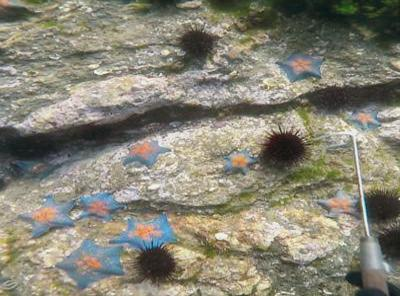urchin: (263, 128, 307, 166), (135, 244, 178, 280), (358, 188, 400, 220), (180, 29, 212, 56), (375, 224, 400, 255)
